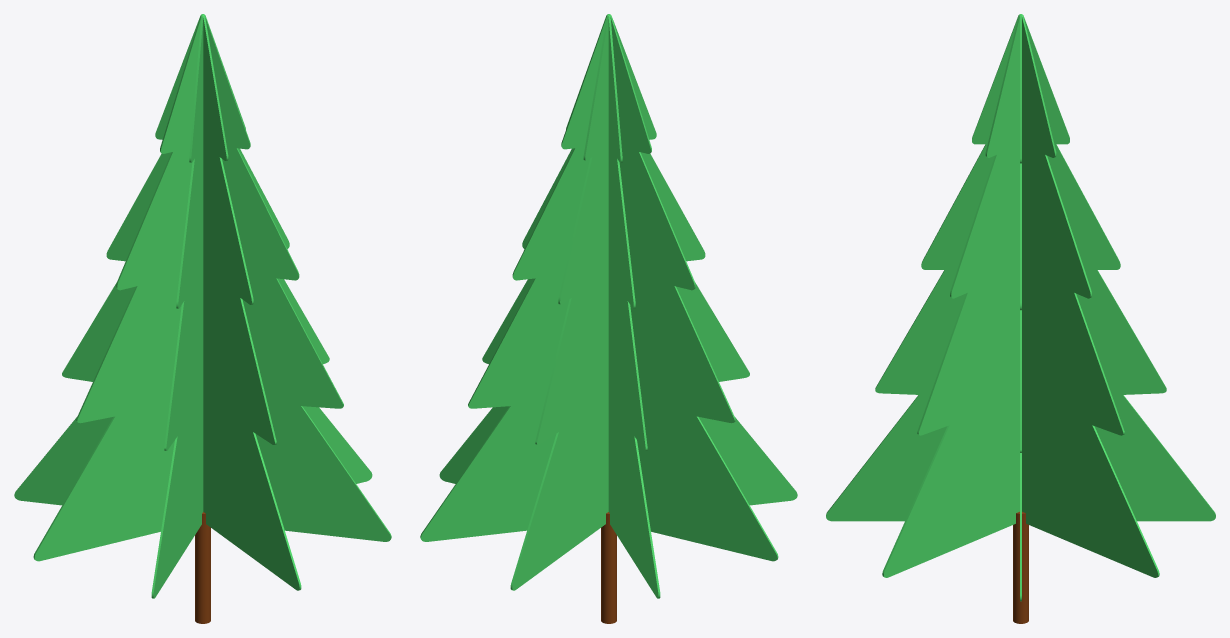
Rendered from pine.gltf.
3 views of the same model, side by side, from view 1: azimuth 30°, elevation 25°; view 2: azimuth 150°, elevation 25°; view 3: azimuth 270°, elevation 25° (orthographic).
Visible parts, largest first — view 1: Pine_Tree; view 2: Pine_Tree; view 3: Pine_Tree.
Part boxes in pixels (box(x1,y1,x2,y2)): Pine_Tree: box(14, 14, 391, 623); Pine_Tree: box(420, 14, 797, 623); Pine_Tree: box(826, 14, 1215, 623).
Bounding box in the file's own units: 2.62 × 4.5 × 2.62.
